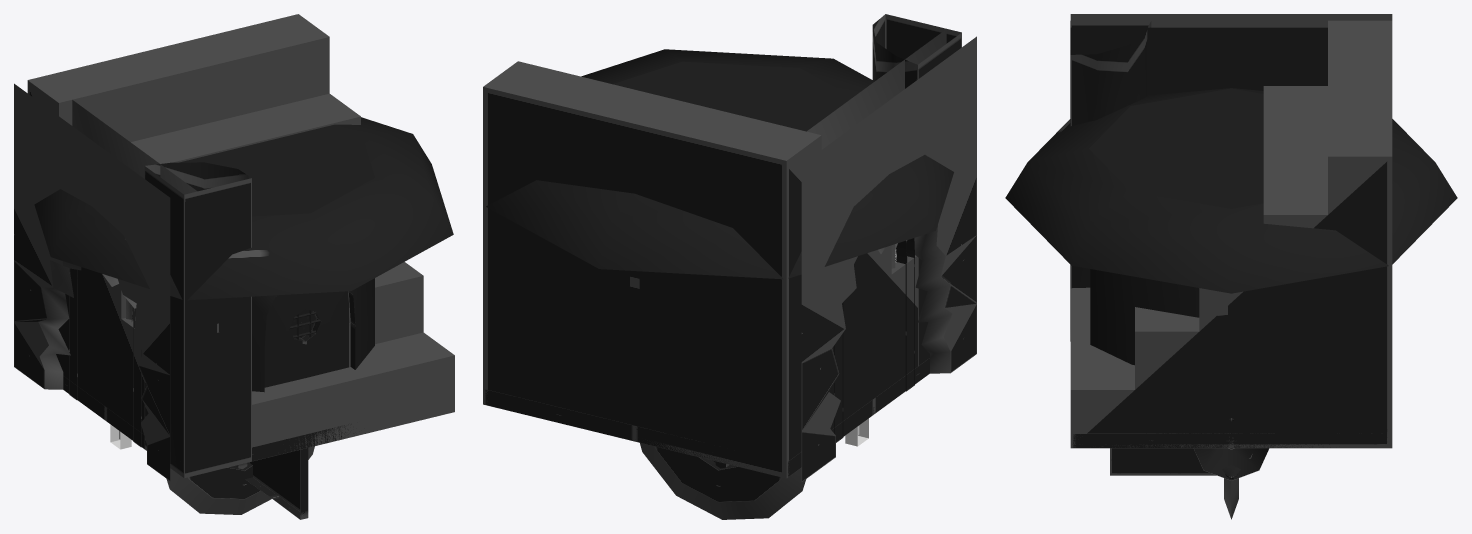
The model's file is Test_Map_Geo.glb.
3 views of the same model, side by side, from view 1: azimuth 30°, elevation 25°; view 2: azimuth 150°, elevation 25°; view 3: azimuth 270°, elevation 25° (orthographic). The views are drawn at different scales.
Visible parts, largest first — view 1: Test_Stairs, Test_House, Test_BrokenWall, Test_Corner, Test_Guilotine, Test_DoorIntro, Test_Wall, Test_Fall, Test_Floor; view 2: Test_Stairs, Test_House, Test_BrokenWall, Test_Guilotine, Test_Fall, Test_Corner, Test_Wall, Test_DoorFrame, Test_Floor; view 3: Test_Stairs, Test_House, Test_DoorFrame, Test_Corner, Test_BrokenWall, Test_DoorIntro, Test_Floor, Test_Fall, Test_FireTrap.
Part boxes in pixels (x1=…): Test_Stairs: x1=27, y1=14, x2=454, y2=450; Test_House: x1=34, y1=117, x2=453, y2=392; Test_BrokenWall: x1=14, y1=83, x2=170, y2=480; Test_Corner: x1=144, y1=162, x2=251, y2=478; Test_Guilotine: x1=166, y1=446, x2=314, y2=514; Test_DoorIntro: x1=245, y1=448, x2=308, y2=519; Test_Wall: x1=72, y1=100, x2=197, y2=194; Test_Fall: x1=63, y1=376, x2=354, y2=461; Test_Floor: x1=63, y1=377, x2=348, y2=461; Test_Stairs: x1=483, y1=61, x2=917, y2=478; Test_House: x1=486, y1=49, x2=953, y2=279; Test_BrokenWall: x1=801, y1=36, x2=976, y2=481; Test_Guilotine: x1=640, y1=443, x2=806, y2=519; Test_Fall: x1=483, y1=358, x2=929, y2=477; Test_Corner: x1=872, y1=14, x2=961, y2=365; Test_Wall: x1=807, y1=29, x2=946, y2=149; Test_DoorFrame: x1=834, y1=238, x2=914, y2=442; Test_Floor: x1=483, y1=360, x2=929, y2=476; Test_Stairs: x1=1070, y1=20, x2=1392, y2=448; Test_House: x1=1005, y1=88, x2=1457, y2=365; Test_DoorFrame: x1=1070, y1=27, x2=1327, y2=95; Test_Corner: x1=1070, y1=20, x2=1151, y2=341; Test_BrokenWall: x1=1070, y1=14, x2=1392, y2=27; Test_DoorIntro: x1=1110, y1=448, x2=1216, y2=475; Test_Floor: x1=1071, y1=433, x2=1371, y2=448; Test_Fall: x1=1070, y1=433, x2=1330, y2=448; Test_FireTrap: x1=1193, y1=418, x2=1269, y2=480.
Size of what is drawn, in the model's own units: 2.81 by 2.9 by 2.81.
Materials: 6 (2 with a texture image).
